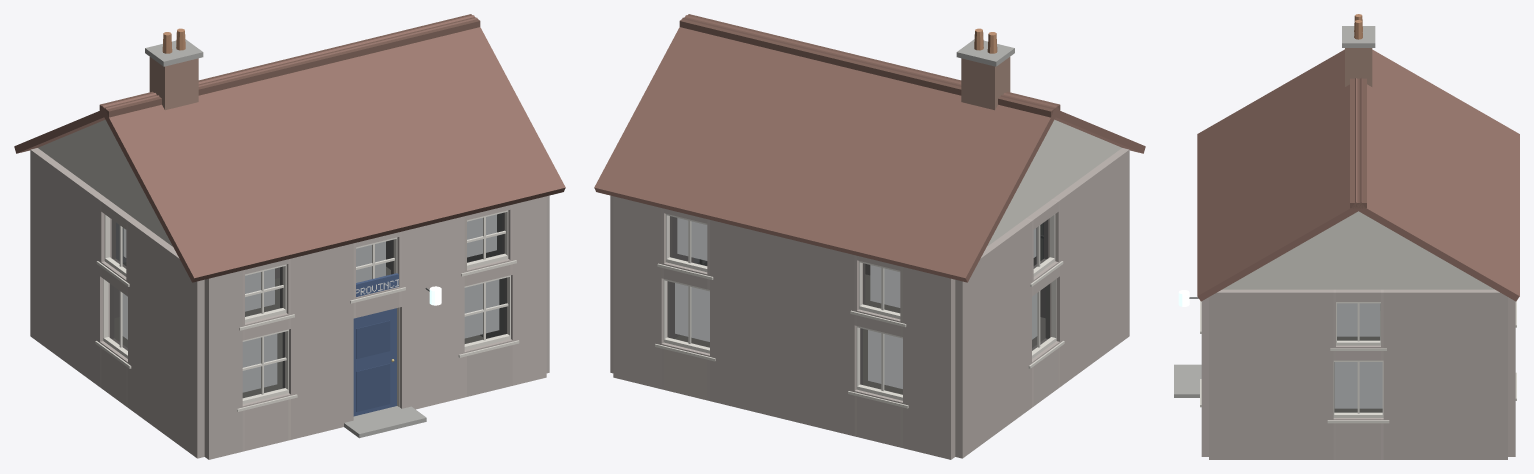
The model's file is town_police_house_a.glb.
The picture shows the model from 3 angles, left to right: view 1: azimuth 30°, elevation 25°; view 2: azimuth 150°, elevation 25°; view 3: azimuth 270°, elevation 25°; orthographic projection. The views are drawn at different scales.
Parts seen in each view (by area): view 1: body, window_light, door; view 2: body, window_light; view 3: body, window_light.
Boxes of the visible parts, x1,y1,x2,y2 form: body: [14, 14, 565, 459]; window_light: [122, 214, 499, 392]; door: [353, 308, 396, 416]; body: [594, 14, 1145, 459]; window_light: [675, 218, 1037, 388]; body: [1174, 14, 1519, 459]; window_light: [1334, 303, 1382, 408].
Size of what is drawn, in the model's own units: 7.7 by 6.95 by 6.94.
